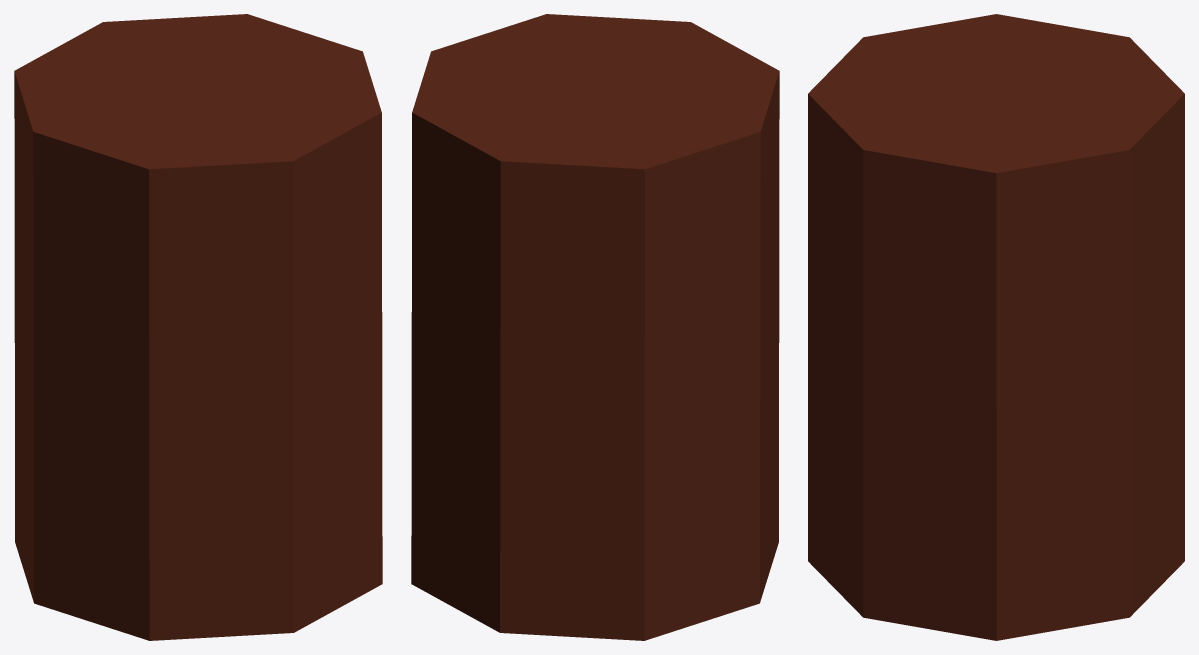
File: Itr_Obj_Dispenser_Sauce_09.FBX
3 renders of one model, left to right at view 1: azimuth 30°, elevation 25°; view 2: azimuth 150°, elevation 25°; view 3: azimuth 270°, elevation 25°, orthographic.
Parts seen in each view (by area): view 1: Itr_Obj_Dispenser_Sauce_09; view 2: Itr_Obj_Dispenser_Sauce_09; view 3: Itr_Obj_Dispenser_Sauce_09.
Part boxes in pixels (x1,y1,x2,y2): Itr_Obj_Dispenser_Sauce_09: (14, 14, 382, 640); Itr_Obj_Dispenser_Sauce_09: (411, 14, 779, 640); Itr_Obj_Dispenser_Sauce_09: (808, 14, 1184, 640).
Bounding box in the file's own units: 3.78 × 5.16 × 3.77.
